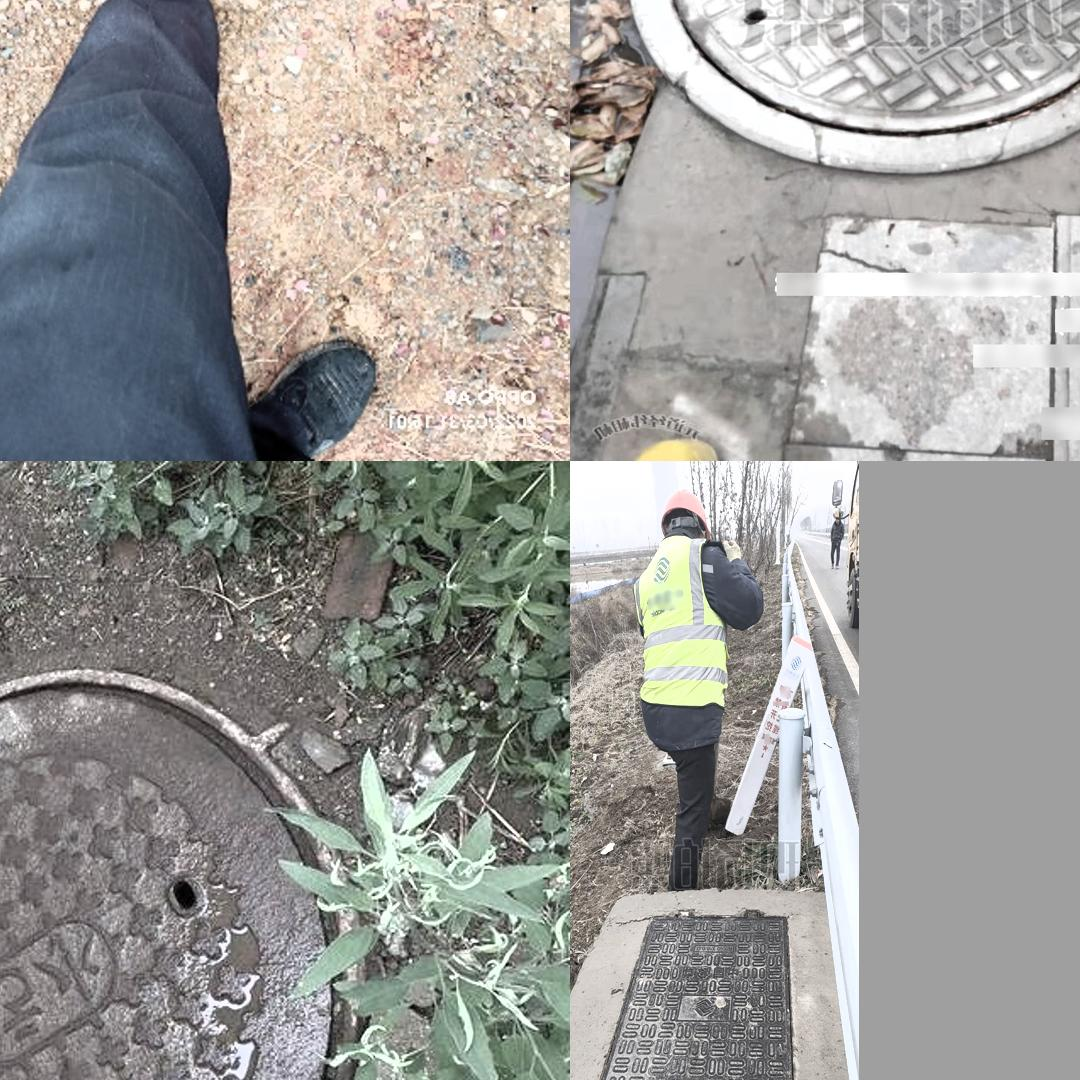good: (0, 659, 371, 1080), (627, 0, 1080, 174), (578, 906, 797, 1080)
